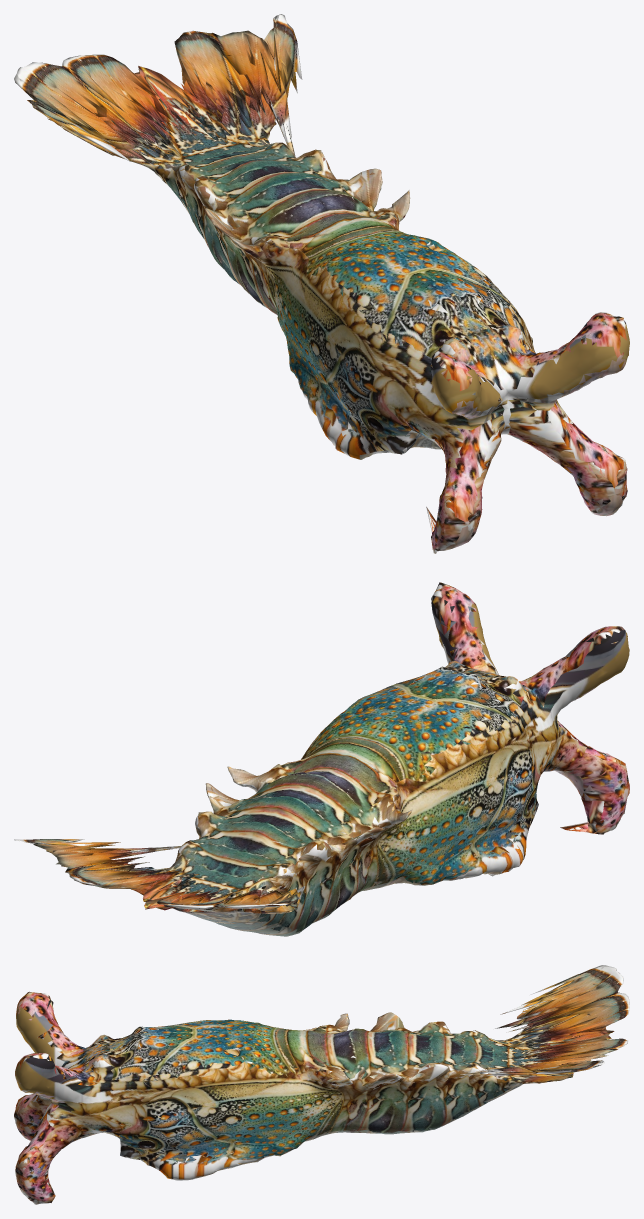
The model's file is crust_lobster.glb.
3 renders of one model, top to bottom at view 1: azimuth 30°, elevation 25°; view 2: azimuth 150°, elevation 25°; view 3: azimuth 270°, elevation 25°, orthographic. The views are drawn at different scales.
Parts seen in each view (by area): view 1: orient; view 2: orient; view 3: orient.
Part boxes in pixels (<box>): orient: <box>14,14,629,553</box>; orient: <box>14,582,629,936</box>; orient: <box>14,965,629,1204</box>.
Size of the model in its own units: 0.7515 by 0.5726 by 1.97.
Materials: 1 (1 with a texture image).
